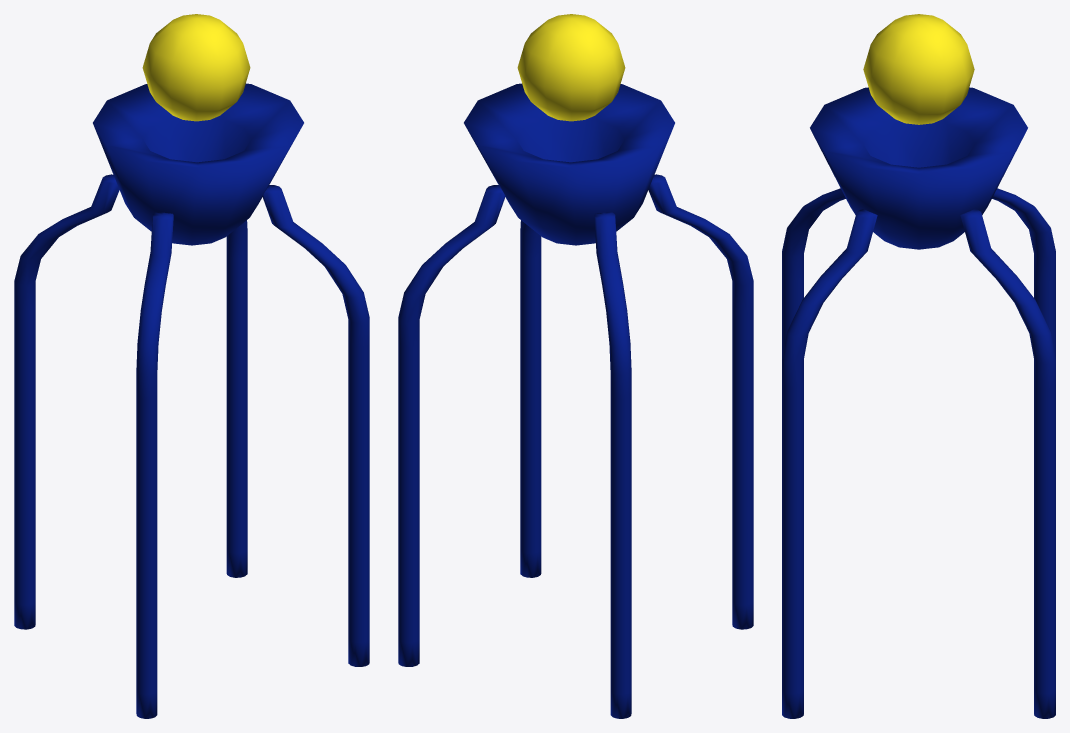
3 views of the same model, side by side, from view 1: azimuth 30°, elevation 25°; view 2: azimuth 150°, elevation 25°; view 3: azimuth 270°, elevation 25° (orthographic). The views are drawn at different scales.
Parts seen in each view (by area): view 1: podklad, Duplicate12, Duplicate10, Slup, kula, Duplicate09; view 2: podklad, Slup, Duplicate09, Duplicate12, kula, Duplicate10; view 3: podklad, Duplicate09, Duplicate10, kula, Slup, Duplicate12.
Boxes of the visible parts, x1,y1,x2,y2 form: podklad: (93,83,303,245); Duplicate12: (136,212,173,718); Duplicate10: (262,185,369,666); Slup: (14,174,119,629); kula: (142,14,250,121); Duplicate09: (226,220,247,577); podklad: (464,83,674,245); Slup: (594,212,631,718); Duplicate09: (398,185,505,666); Duplicate12: (648,174,753,629); kula: (517,14,625,121); Duplicate10: (520,220,541,577); podklad: (810,87,1027,249); Duplicate09: (960,209,1055,718); Duplicate10: (782,209,877,718); kula: (863,14,974,124); Slup: (992,188,1055,358); Duplicate12: (782,188,845,358).
Bounding box in the file's own units: 0.9869 × 2.55 × 0.984.
